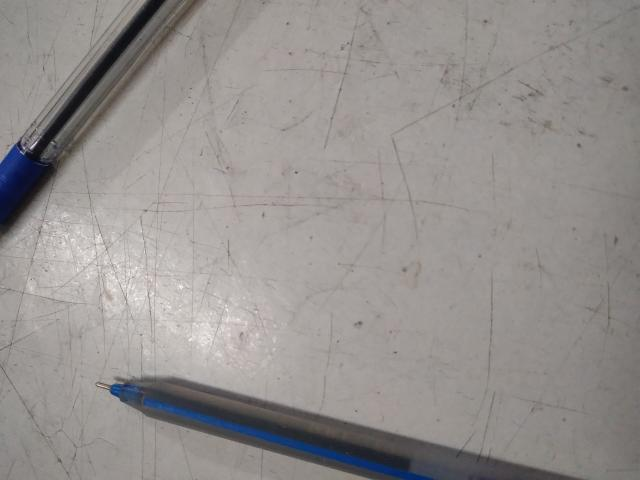PEN: (228, 4, 480, 211), (4, 52, 102, 480)
